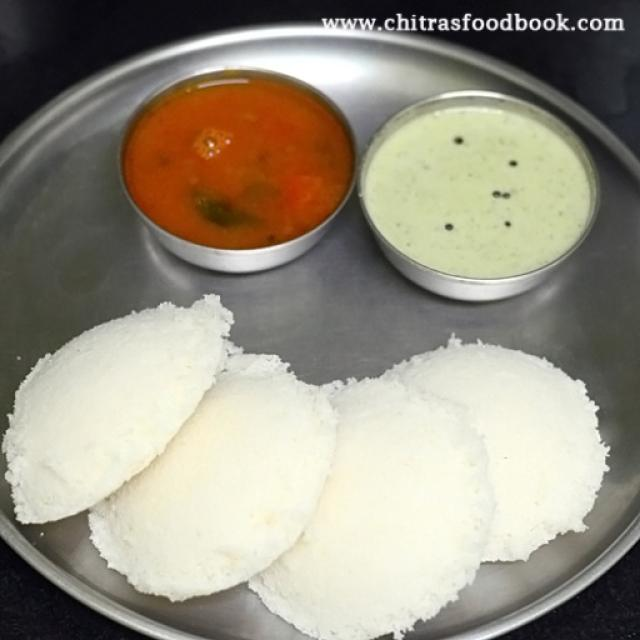IDLI: (2, 295, 495, 639)
SAMBAR: (124, 78, 352, 249)
WHITE CHUTNEY: (360, 92, 599, 300)
